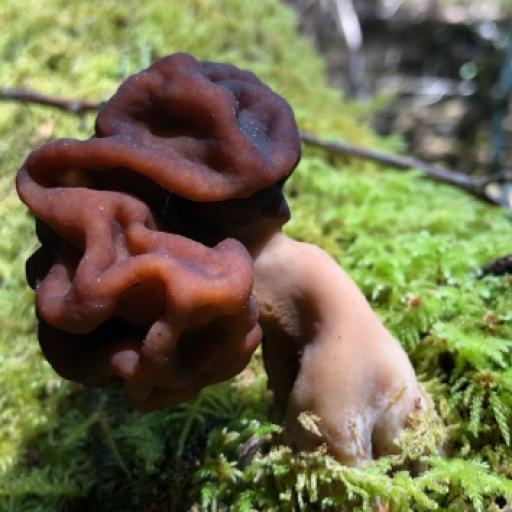mushroom: (0, 18, 442, 512)
